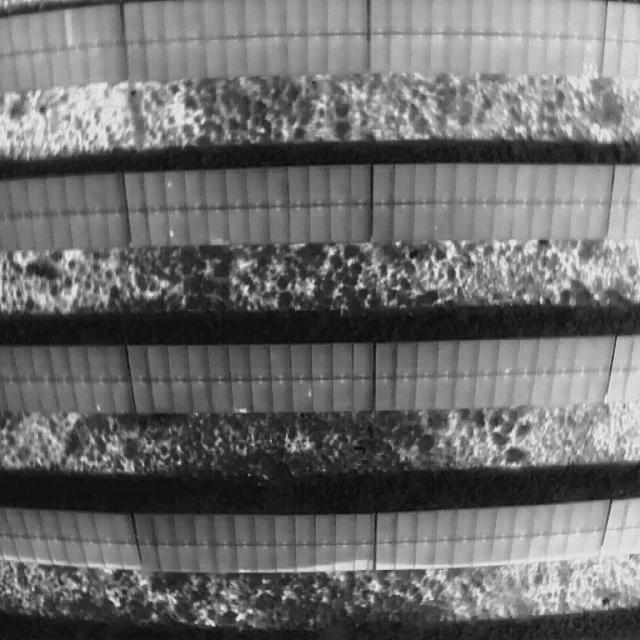diode: (63, 10, 74, 50)
hotspot: (232, 404, 250, 414)
